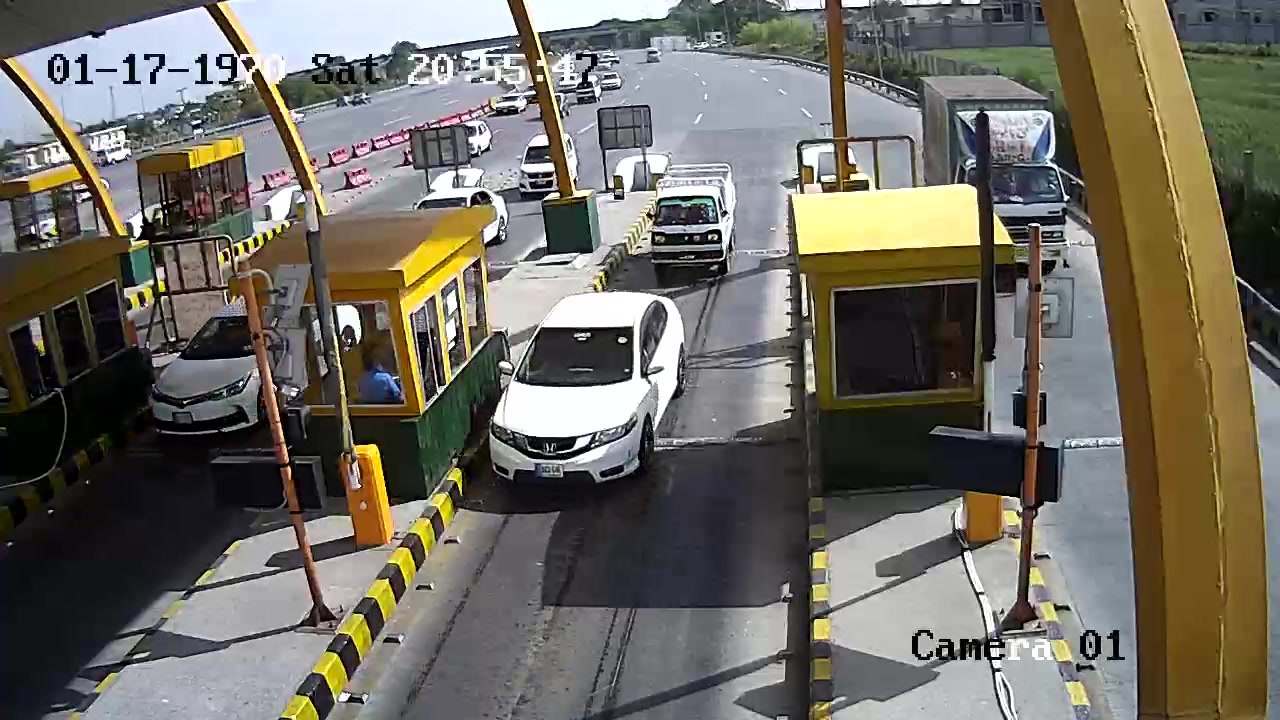F1: (482, 285, 699, 504)
